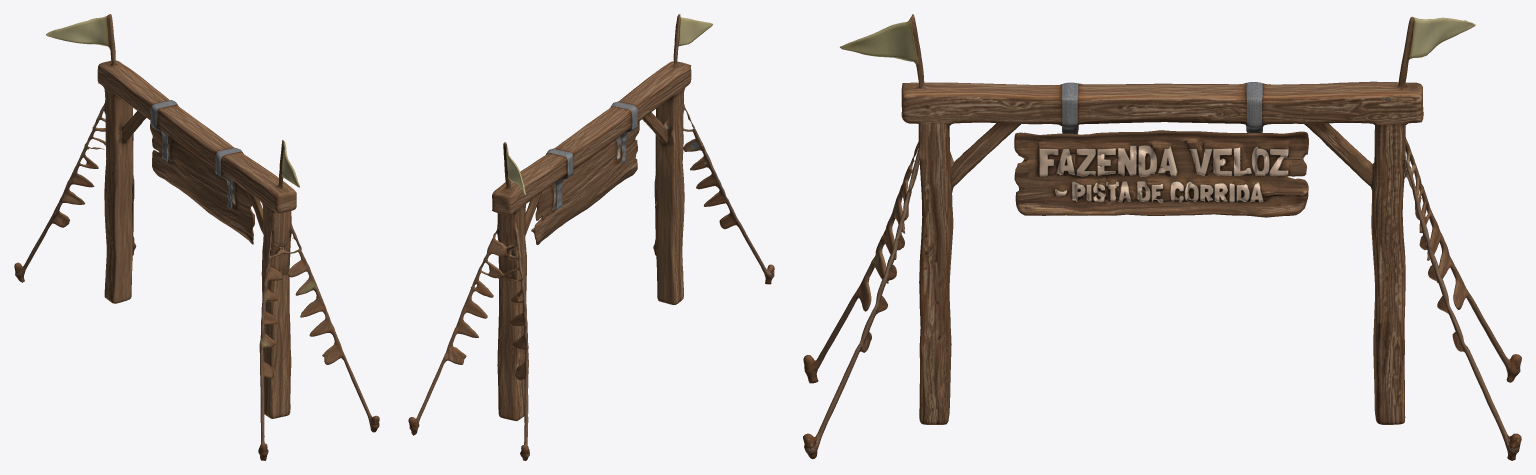
Rendered from wooden+race+gate+3d+model.fbx.
3 views of the same model, side by side, from view 1: azimuth 30°, elevation 25°; view 2: azimuth 150°, elevation 25°; view 3: azimuth 270°, elevation 25° (orthographic). The views are drawn at different scales.
Parts seen in each view (by area): view 1: tripo_node_a6f8135b; view 2: tripo_node_a6f8135b; view 3: tripo_node_a6f8135b.
Part boxes in pixels (x1=…): tripo_node_a6f8135b: x1=14, y1=14, x2=379, y2=460; tripo_node_a6f8135b: x1=408, y1=14, x2=774, y2=460; tripo_node_a6f8135b: x1=803, y1=14, x2=1521, y2=460.
Size of the model in its own units: 27.52 by 61.95 by 99.39.
Materials: 1 (1 with a texture image).
